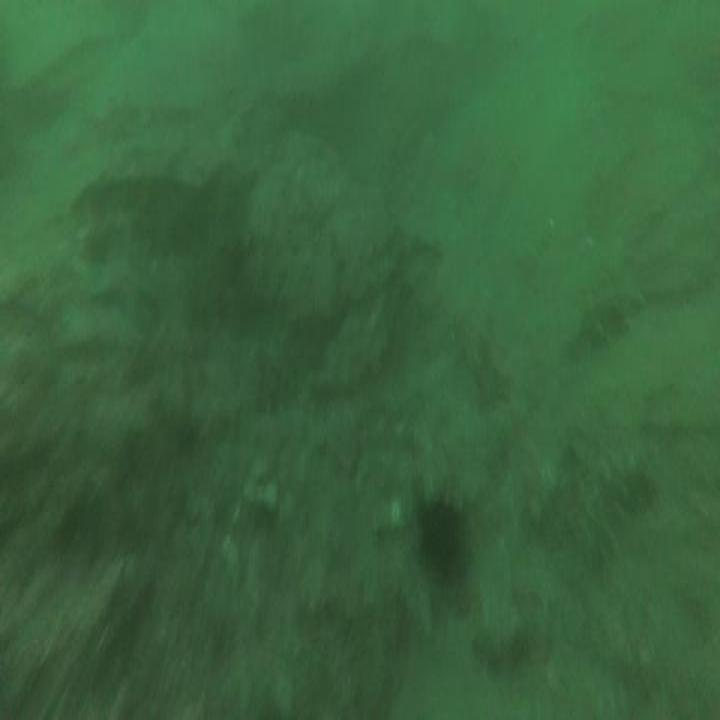echinus: (419, 501, 460, 578)
holothurian: (570, 443, 647, 553), (569, 276, 643, 348)
